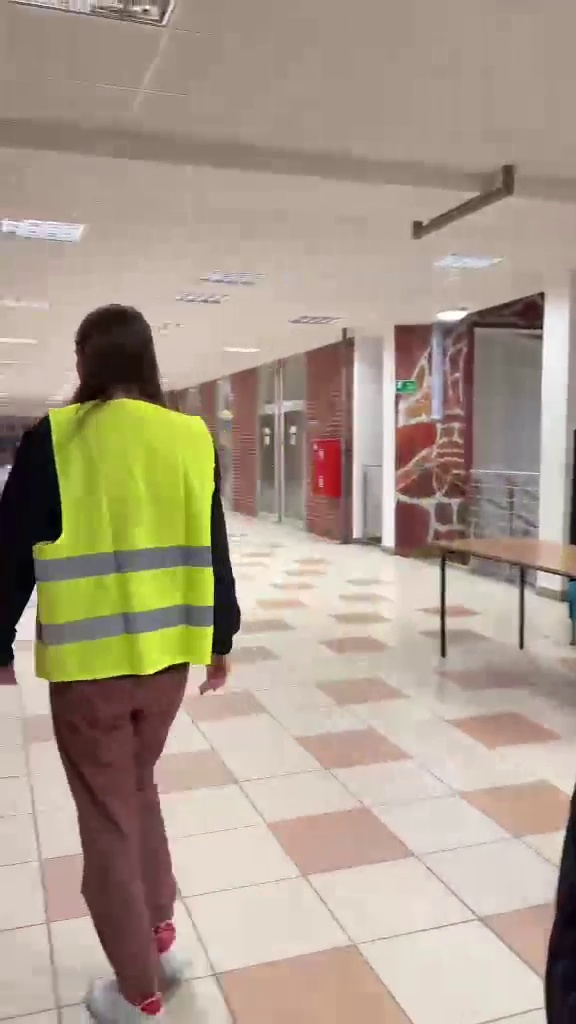vest: (8, 306, 234, 1009)
